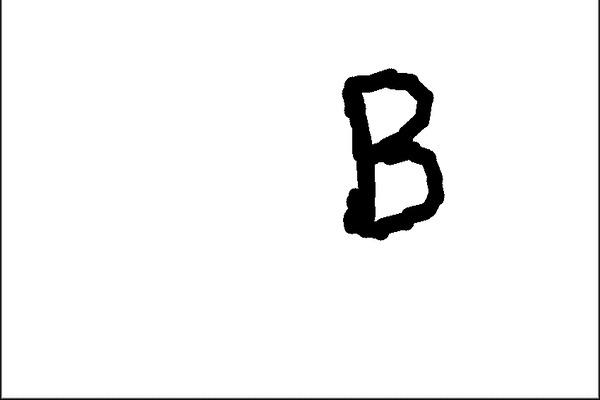B: (331, 62, 451, 244)
